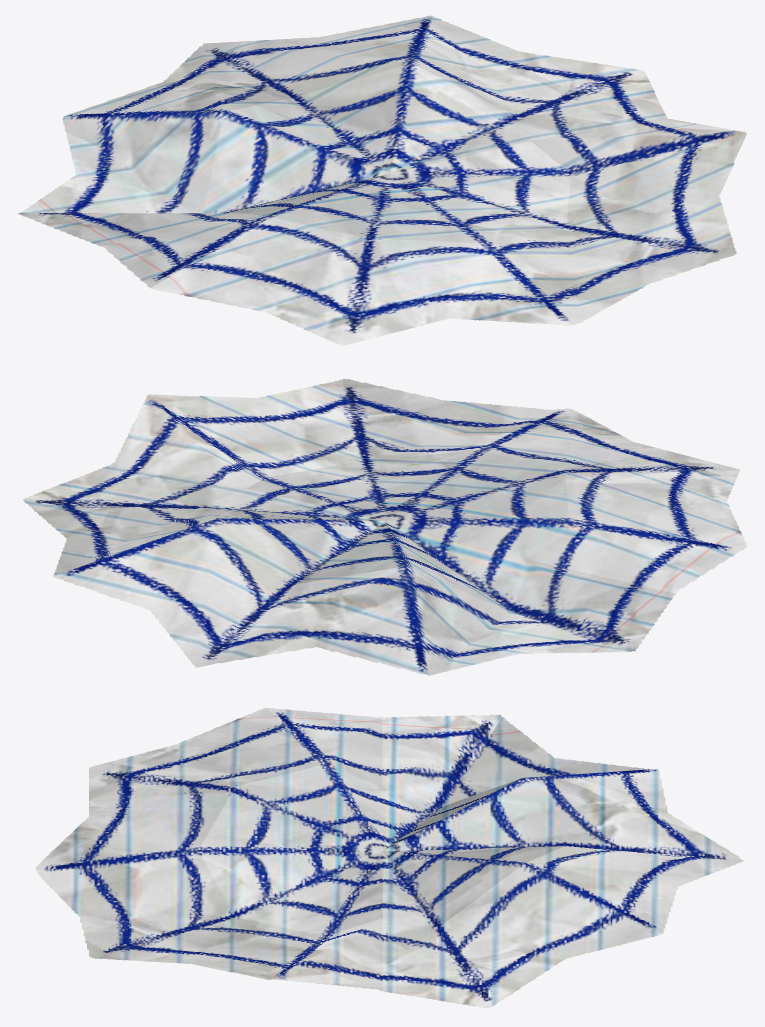
Rendered from WebOnGround.fbx.
The picture shows the model from 3 angles, top to bottom: view 1: azimuth 30°, elevation 25°; view 2: azimuth 150°, elevation 25°; view 3: azimuth 270°, elevation 25°; orthographic projection. The views are drawn at different scales.
Parts seen in each view (by area): view 1: Plane.001; view 2: Plane.001; view 3: Plane.001.
Part boxes in pixels (x1,y1,x2,y2): Plane.001: (18,15,746,345); Plane.001: (23,378,747,675); Plane.001: (36,708,744,1007).
Size of the model in its own units: 158 by 15 by 167.
